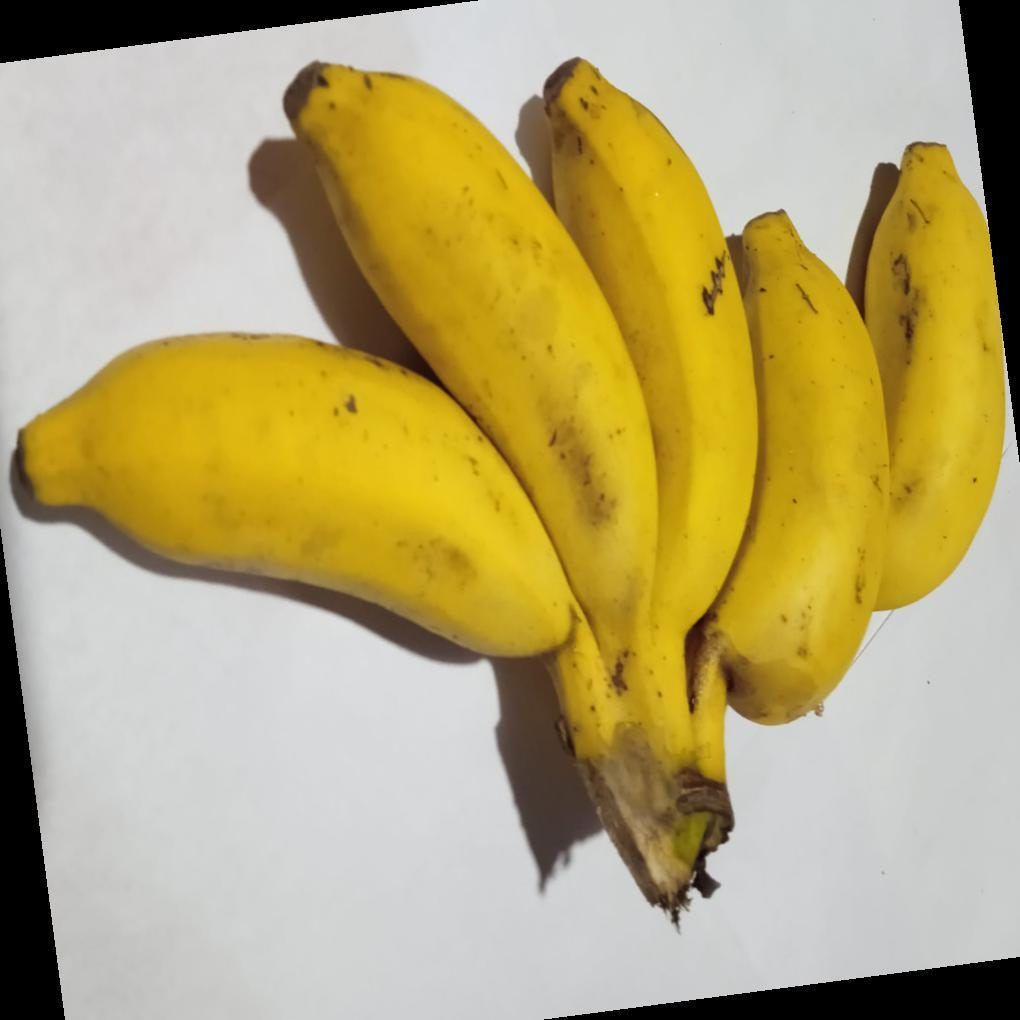Banana Ripe: (276, 30, 1020, 836), (5, 109, 707, 949)
